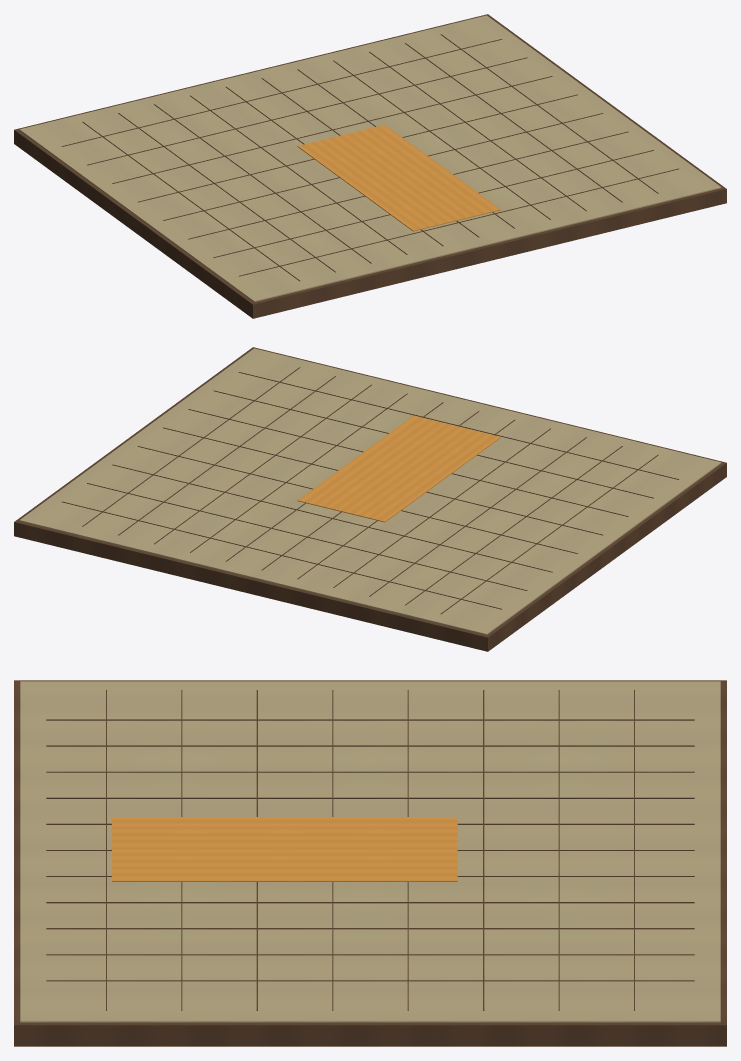
Rendered from atlas100-s012-a07.glb.
The picture shows the model from 3 angles, top to bottom: view 1: azimuth 30°, elevation 25°; view 2: azimuth 150°, elevation 25°; view 3: azimuth 270°, elevation 25°; orthographic projection. The views are drawn at different scales.
Visible parts, largest first — view 1: atlas100-s012-a07:part-001, atlas100-s012-a07:part-000, atlas100-s012-a07:part-021, atlas100-s012-a07:part-020, atlas100-s012-a07:part-013, atlas100-s012-a07:part-014, atlas100-s012-a07:part-015, atlas100-s012-a07:part-018, atlas100-s012-a07:part-017, atlas100-s012-a07:part-019, atlas100-s012-a07:part-016; view 2: atlas100-s012-a07:part-001, atlas100-s012-a07:part-000, atlas100-s012-a07:part-021, atlas100-s012-a07:part-015, atlas100-s012-a07:part-013, atlas100-s012-a07:part-020, atlas100-s012-a07:part-014, atlas100-s012-a07:part-016, atlas100-s012-a07:part-017, atlas100-s012-a07:part-018, atlas100-s012-a07:part-019; view 3: atlas100-s012-a07:part-001, atlas100-s012-a07:part-000, atlas100-s012-a07:part-021, atlas100-s012-a07:part-002, atlas100-s012-a07:part-003, atlas100-s012-a07:part-005, atlas100-s012-a07:part-004, atlas100-s012-a07:part-009, atlas100-s012-a07:part-010, atlas100-s012-a07:part-011, atlas100-s012-a07:part-012, atlas100-s012-a07:part-014 (+2 smaller).
Boxes of the visible parts, x1,y1,x2,y2 form: atlas100-s012-a07:part-001: (19, 15, 721, 301); atlas100-s012-a07:part-000: (14, 14, 726, 318); atlas100-s012-a07:part-021: (297, 124, 500, 231); atlas100-s012-a07:part-020: (239, 168, 678, 276); atlas100-s012-a07:part-013: (62, 39, 502, 146); atlas100-s012-a07:part-014: (87, 57, 527, 165); atlas100-s012-a07:part-015: (112, 76, 552, 183); atlas100-s012-a07:part-018: (188, 131, 628, 239); atlas100-s012-a07:part-017: (163, 113, 603, 220); atlas100-s012-a07:part-019: (213, 150, 653, 257); atlas100-s012-a07:part-016: (138, 94, 577, 202); atlas100-s012-a07:part-001: (19, 348, 721, 634); atlas100-s012-a07:part-000: (14, 347, 726, 651); atlas100-s012-a07:part-021: (297, 415, 500, 522); atlas100-s012-a07:part-015: (112, 464, 552, 572); atlas100-s012-a07:part-013: (62, 501, 501, 609); atlas100-s012-a07:part-020: (238, 372, 678, 479); atlas100-s012-a07:part-014: (87, 483, 527, 590); atlas100-s012-a07:part-016: (137, 446, 577, 553); atlas100-s012-a07:part-017: (163, 427, 602, 535); atlas100-s012-a07:part-018: (188, 409, 628, 516); atlas100-s012-a07:part-019: (213, 390, 653, 498); atlas100-s012-a07:part-001: (20, 681, 720, 1022); atlas100-s012-a07:part-000: (14, 680, 726, 1046); atlas100-s012-a07:part-021: (112, 817, 457, 881); atlas100-s012-a07:part-002: (46, 719, 694, 720); atlas100-s012-a07:part-003: (46, 745, 694, 746); atlas100-s012-a07:part-005: (46, 797, 694, 798); atlas100-s012-a07:part-004: (46, 771, 694, 772); atlas100-s012-a07:part-009: (46, 902, 694, 903); atlas100-s012-a07:part-010: (46, 928, 694, 929); atlas100-s012-a07:part-011: (46, 954, 694, 955); atlas100-s012-a07:part-012: (46, 980, 694, 981); atlas100-s012-a07:part-014: (558, 690, 559, 1010).
Size of the model in its own units: 11.9 by 0.404 by 10.4.
Materials: 3 (3 with a texture image).
